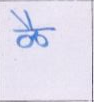ai_matra: (11, 9, 37, 29)
